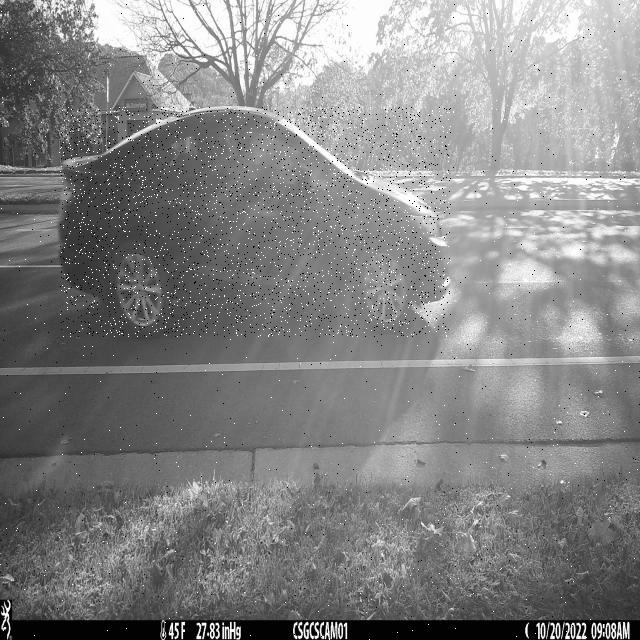Sedan: (60, 107, 451, 337)
